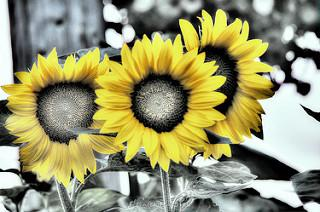sunflower: (96, 34, 222, 171), (2, 47, 124, 186), (172, 10, 279, 144)
